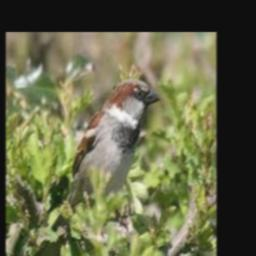Sparrow: (65, 79, 161, 208)
